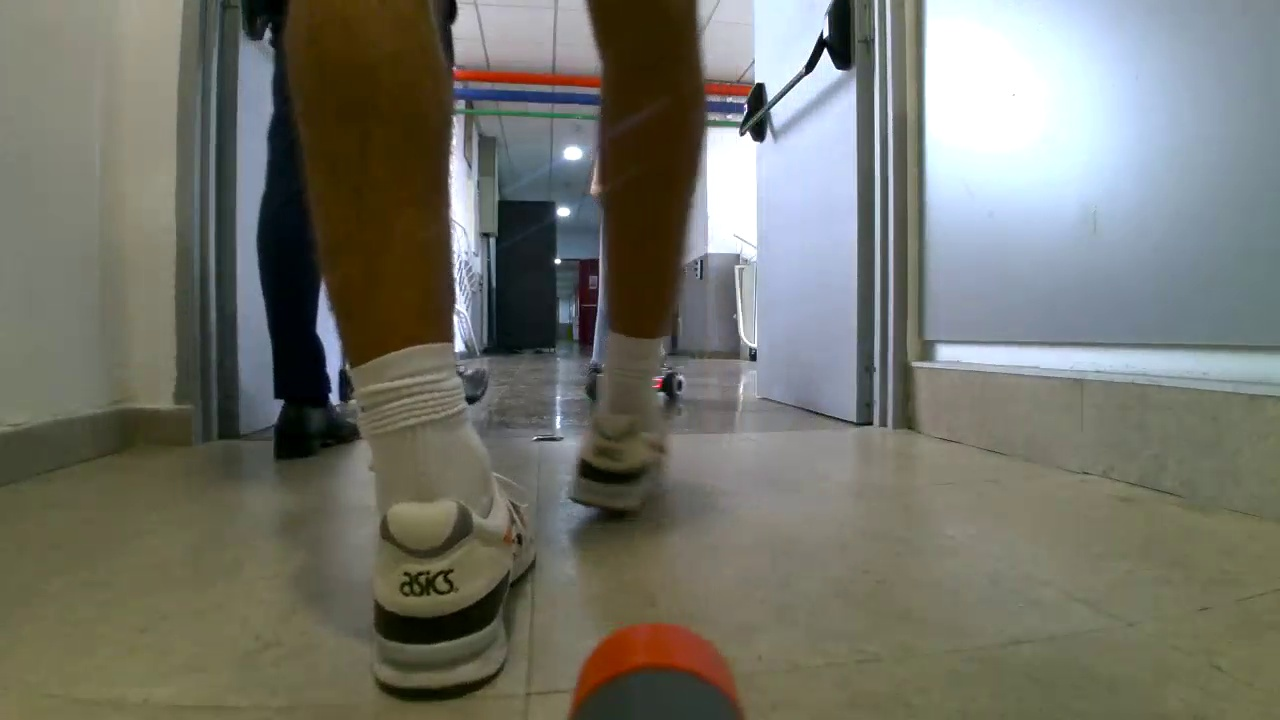robot: (646, 355, 689, 415)
